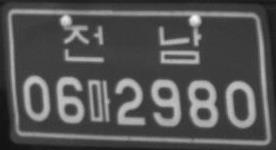0: (225, 80, 256, 130), (22, 74, 51, 122)
2: (114, 77, 145, 126)
6: (56, 75, 85, 123)
8: (187, 79, 219, 128)
9: (149, 77, 181, 127)
마: (86, 78, 111, 122)
전남_D: (63, 24, 202, 64)
